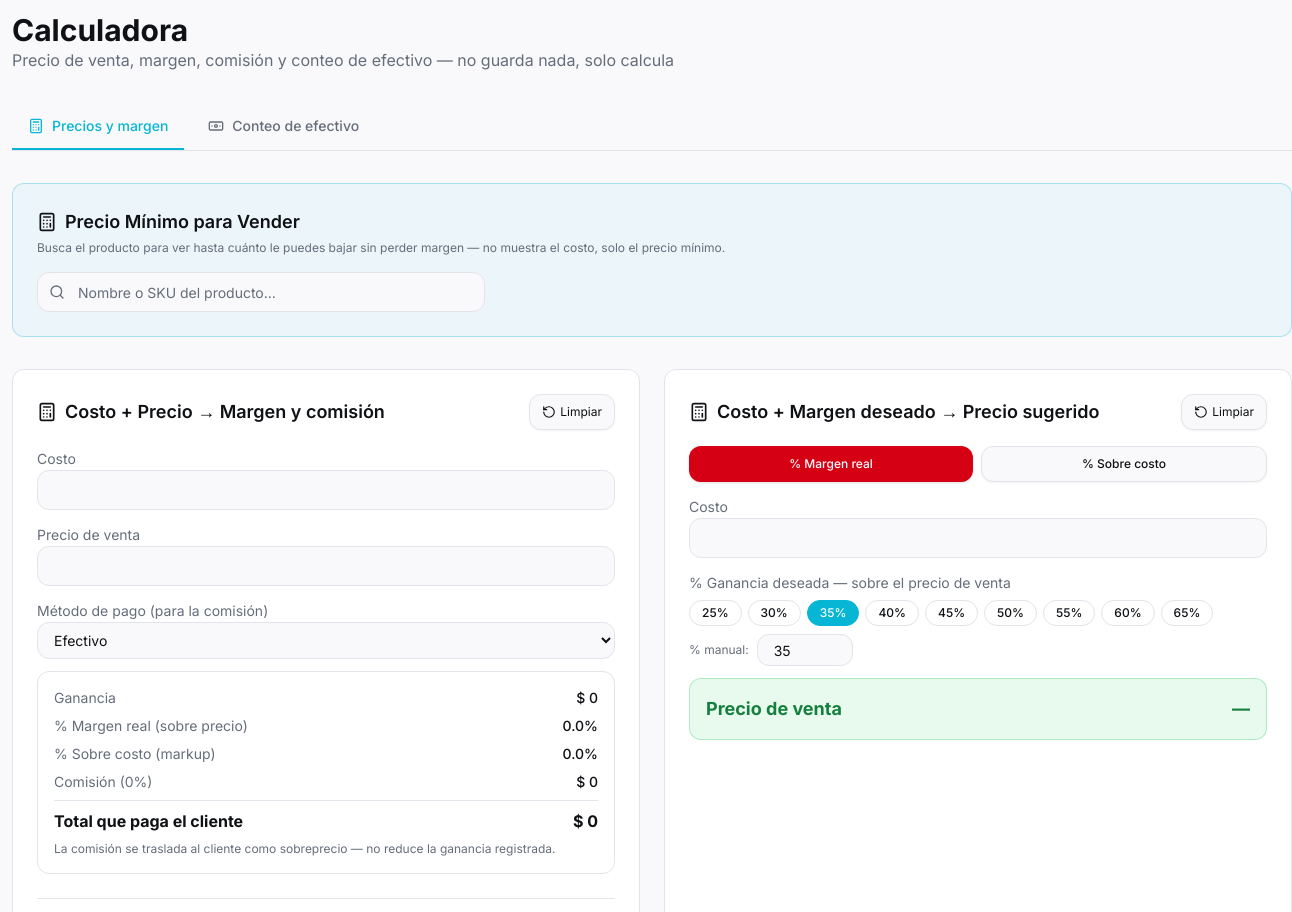
Calculadora — Conteo de efectivo › suma cantidad × denominación de monedas y billetes en el total
Click the tab "Conteo de efectivo".
click(284, 127)  # box [192,104,375,150]
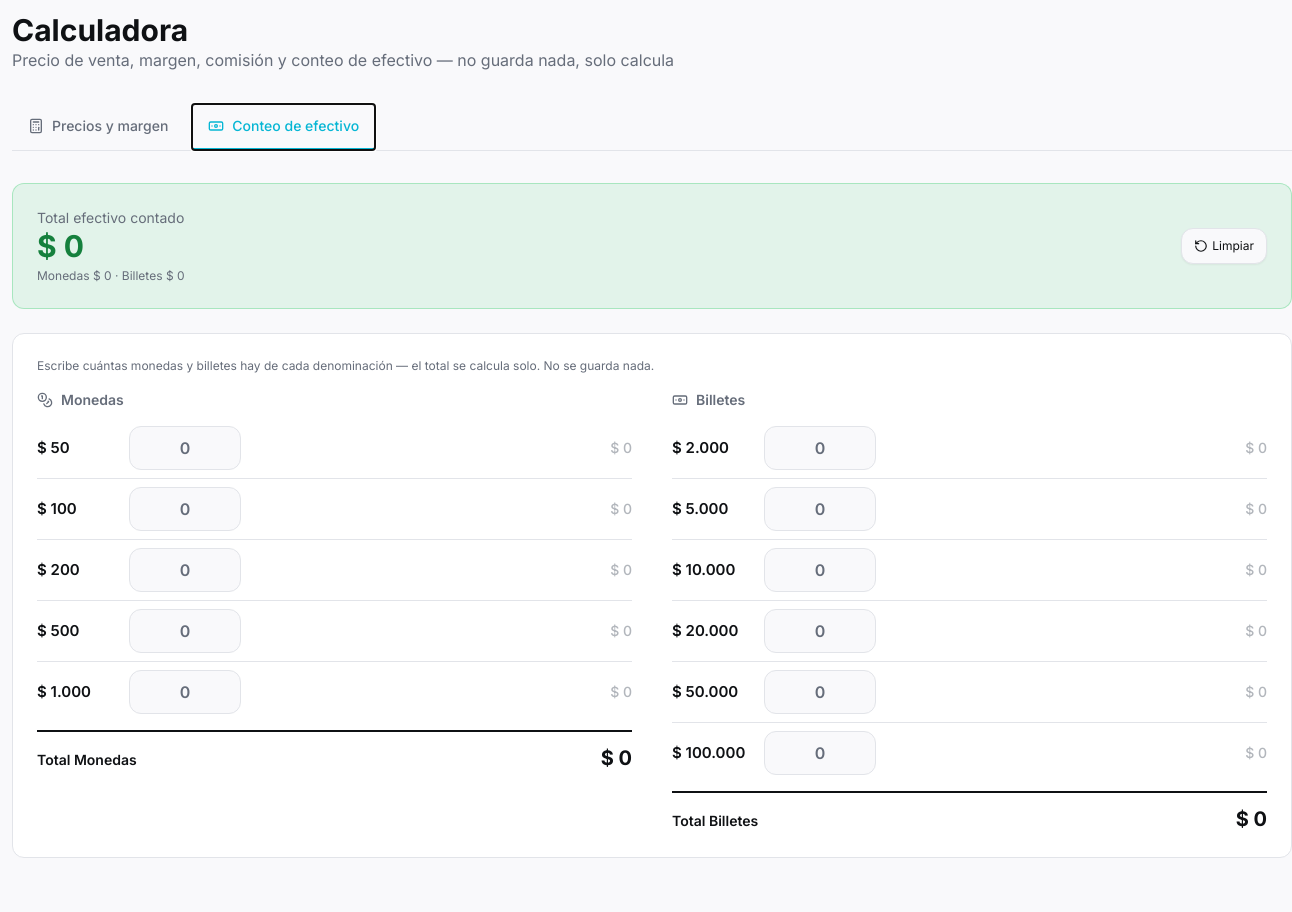
Type "4" into the field labelled "$ 500".
click(185, 631); type("4")  # box [129,609,241,653]
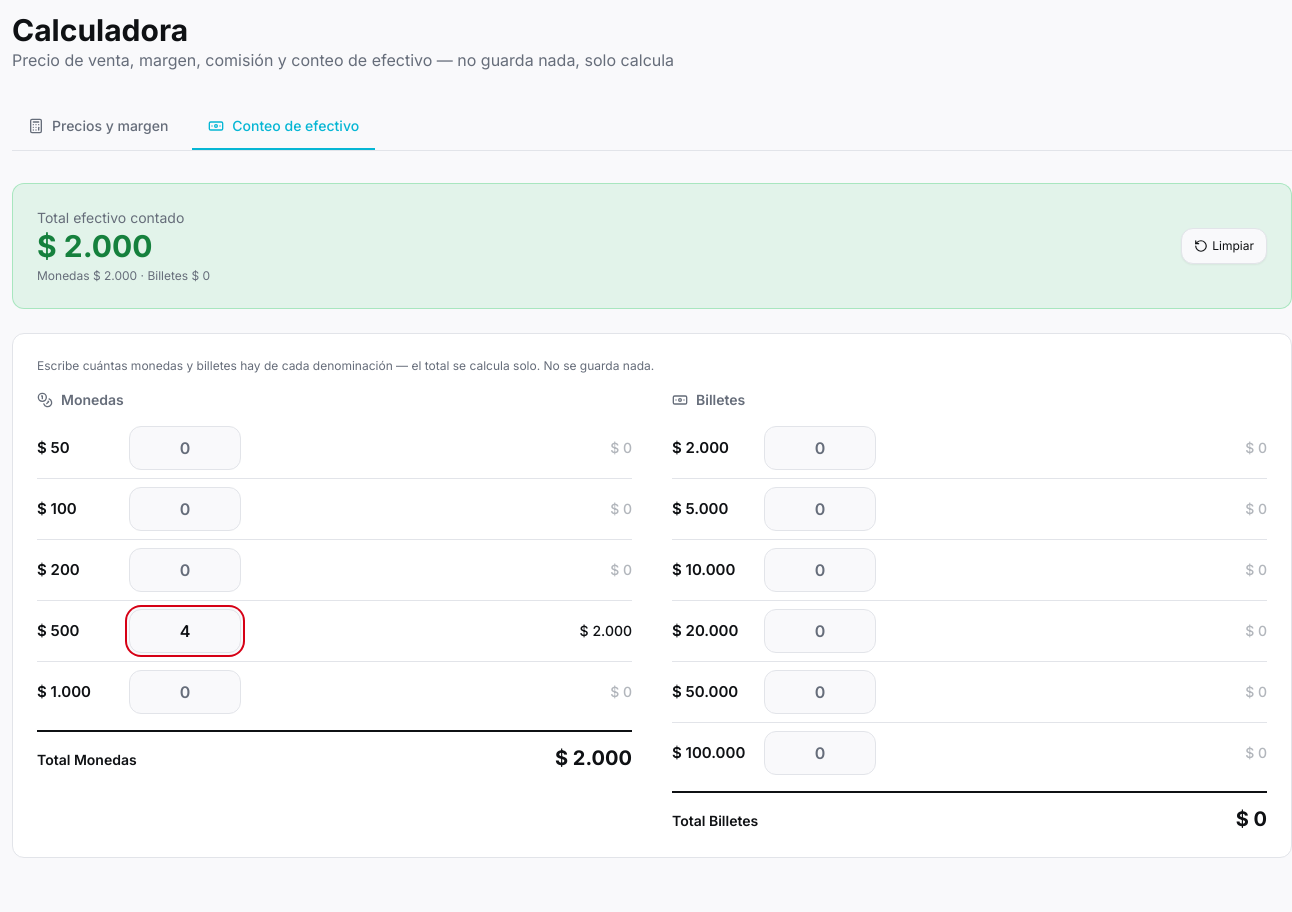
Type "3" into the field labelled "$ 50.000".
click(820, 692); type("3")  # box [764,670,876,714]
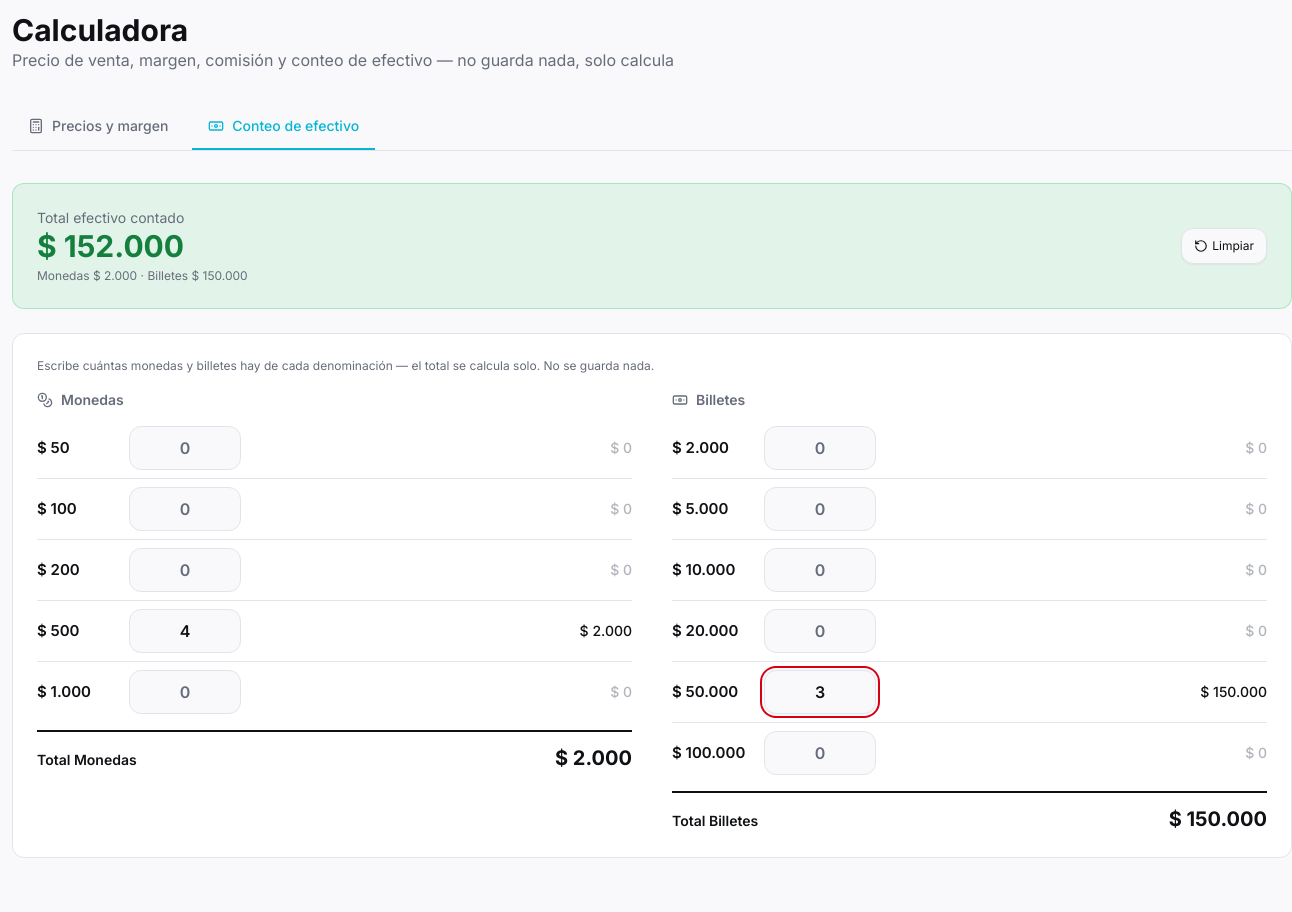
Type "1" into the field labelled "$ 2.000".
click(820, 448); type("1")  # box [764,426,876,470]
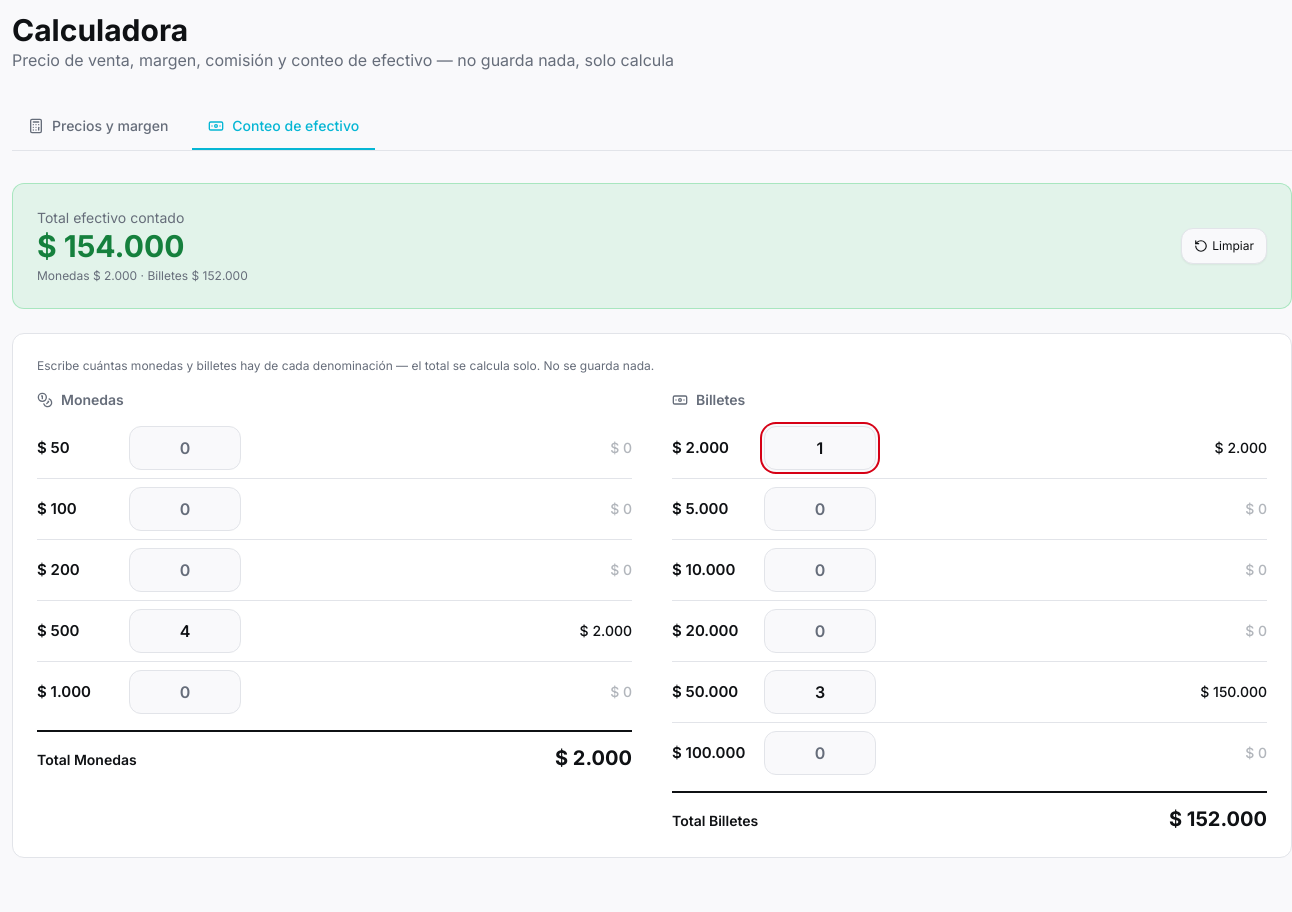
Result: the text with test id "total-efectivo" shows "154.000" at [37,228,184,264]
